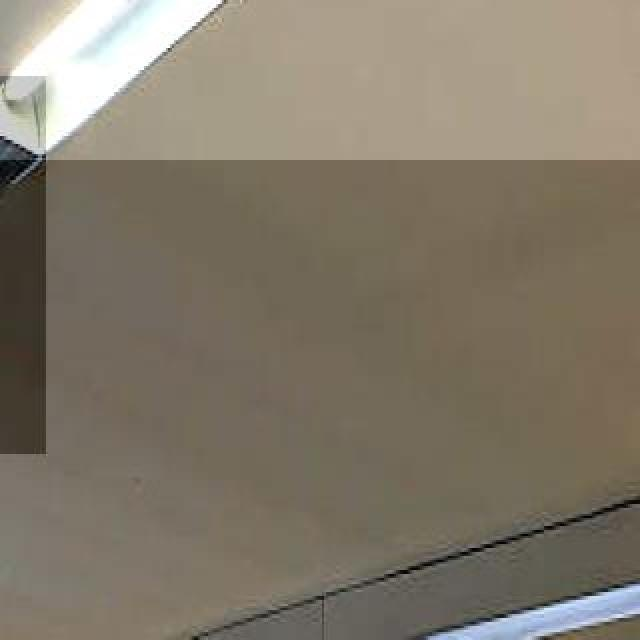fluorescent tube: (0, 0, 640, 162), (0, 80, 38, 452)
